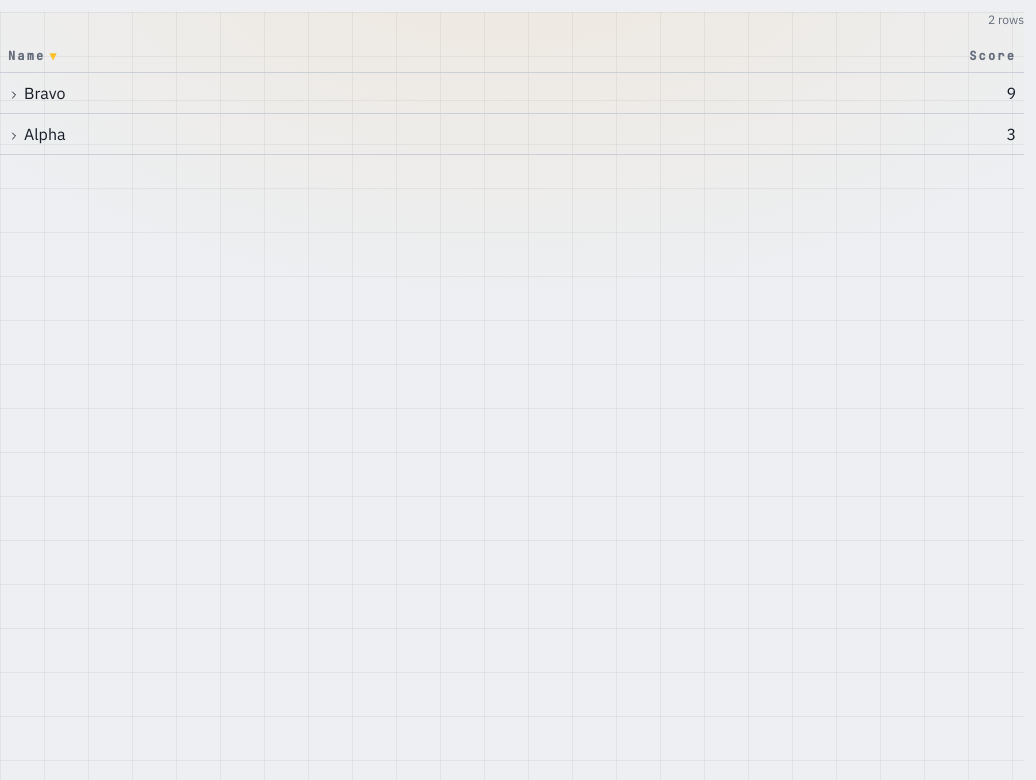
TableRenderer (generic) › expands a row via the registered section renderer
Click the text "Bravo" at (45, 93), box [24,83,65,103]
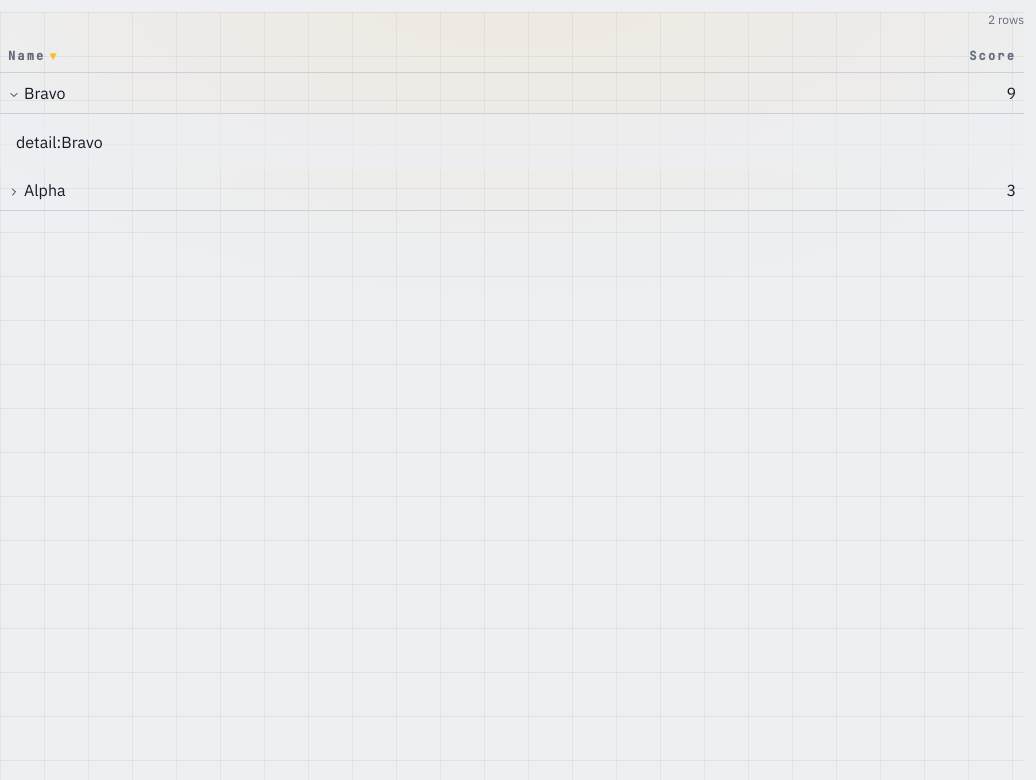
expect the text "detail:Bravo" is shown: met, box [16,132,103,152]
